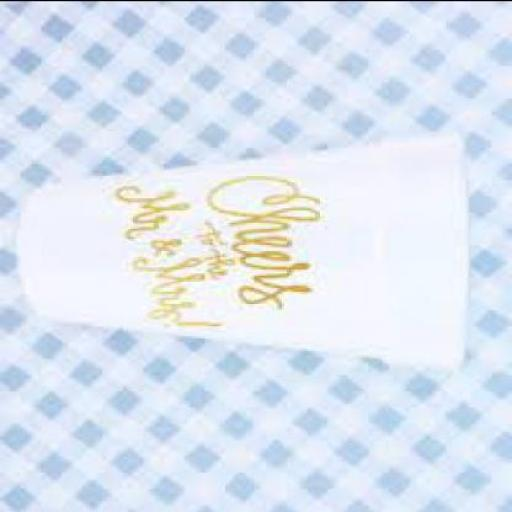paper: (20, 128, 471, 362)
